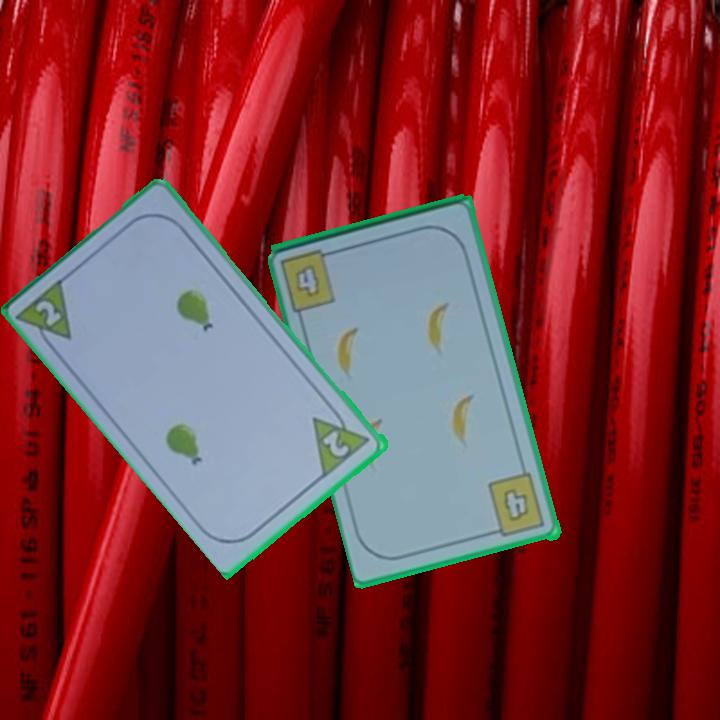2p: (308, 401, 375, 479), (32, 296, 66, 330)
4b: (277, 245, 342, 315), (485, 470, 549, 540)
